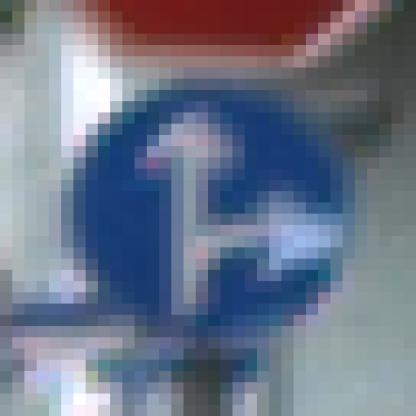Straight or Right: (62, 69, 356, 350)
